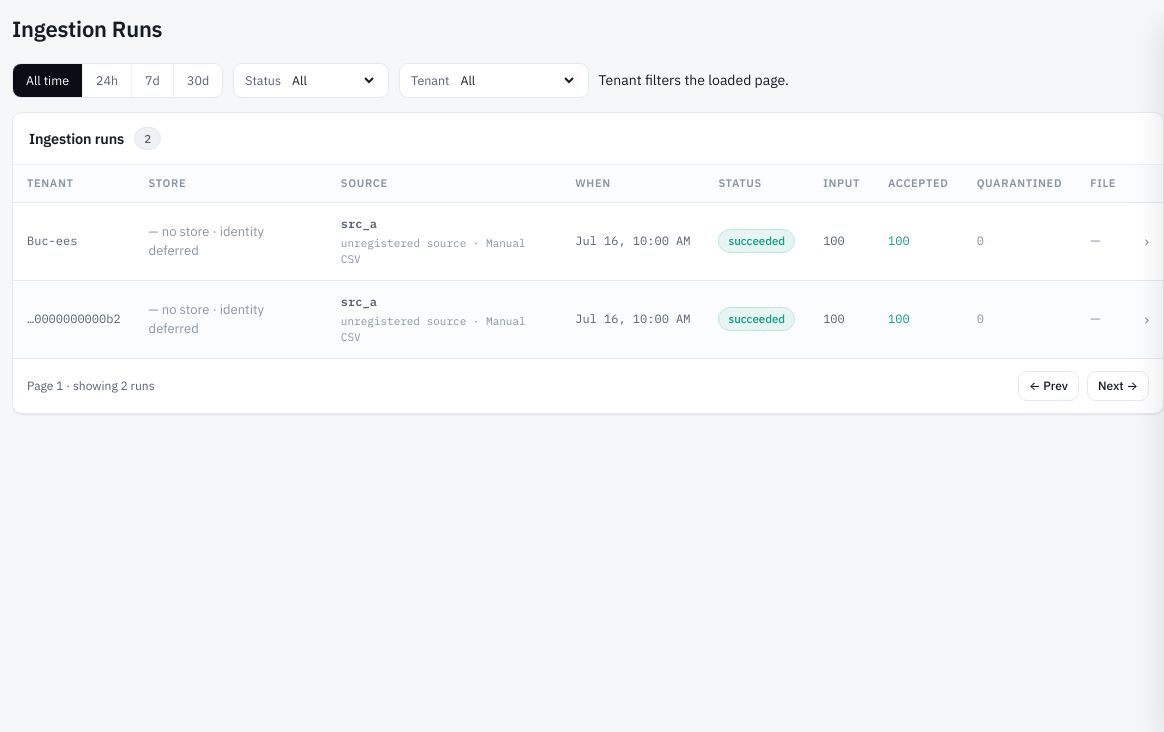
Test: Chunk 9-FE: fleet surfaces display tenant_name (Ingestion Runs, real mode) › tenant filter OPTION shows the name but its VALUE stays the tenant_id (filter logic unchanged)
The width and height of the screenshot is (1164, 732).
Expected: the table is shown, top-left (13, 165), bottom-right (1163, 358)
Step 1. Select "Buc-ees" in the dropdown labelled "Tenant" → (516, 80), box top-left (456, 71), bottom-right (576, 89)
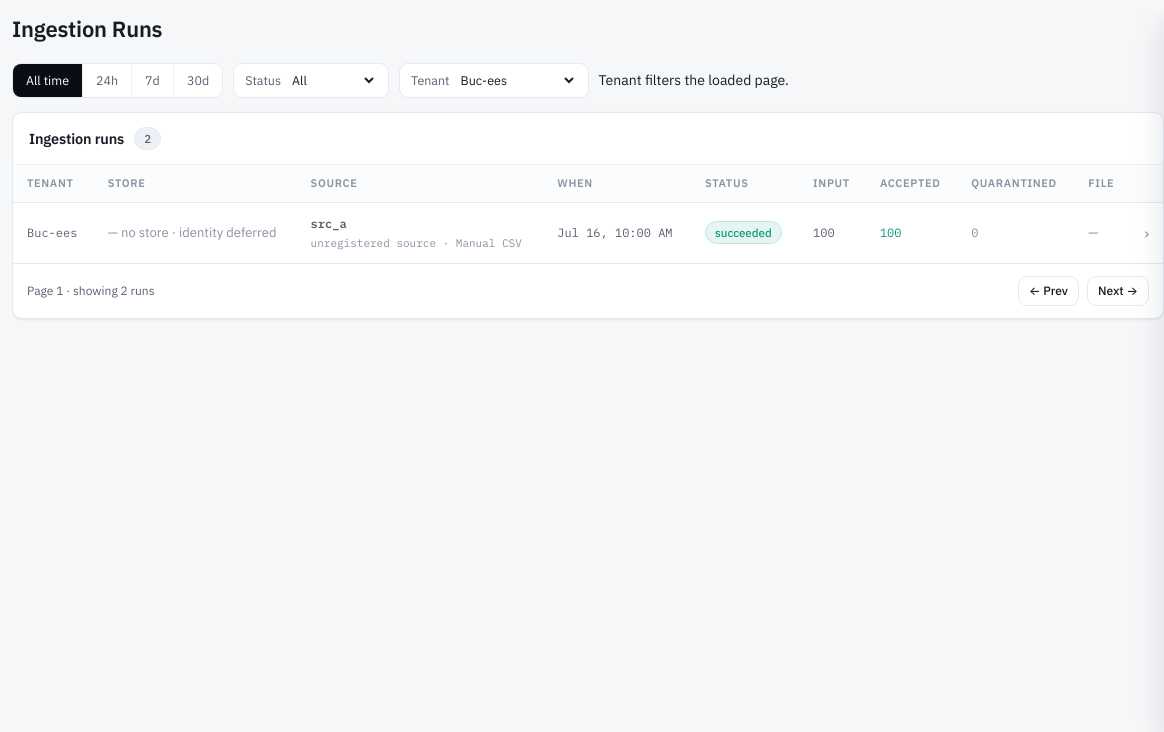
Expected: the text "Buc-ees" is shown, top-left (13, 202), bottom-right (94, 263)
Expected: the text "…0000000000b2" is gone
